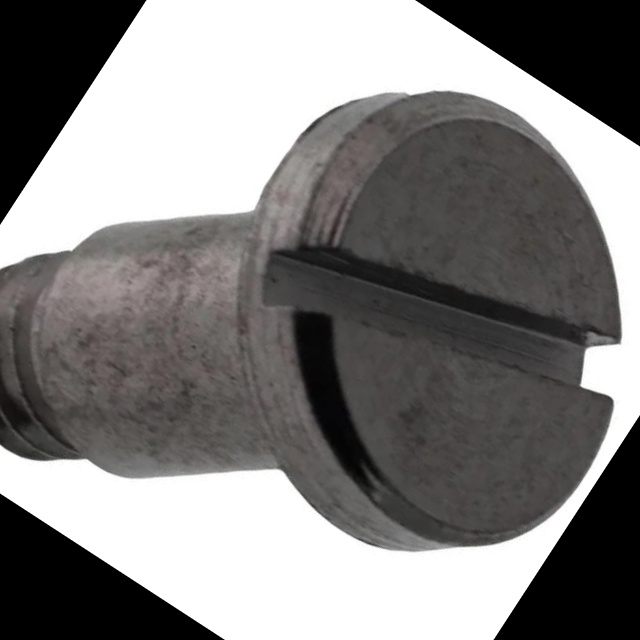duz: (128, 18, 640, 631)
